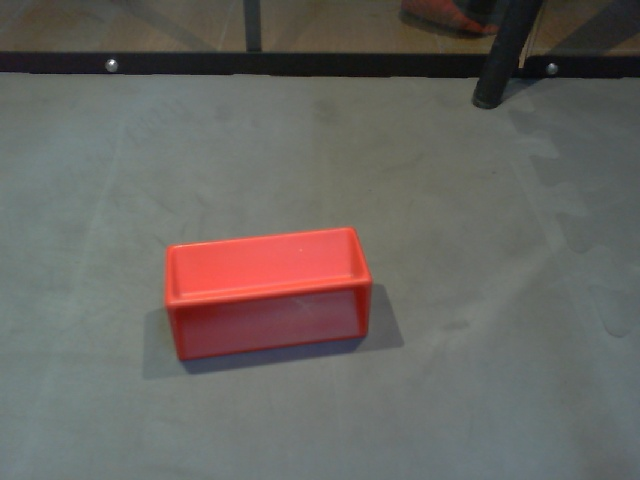RedSample: (162, 226, 375, 363)
